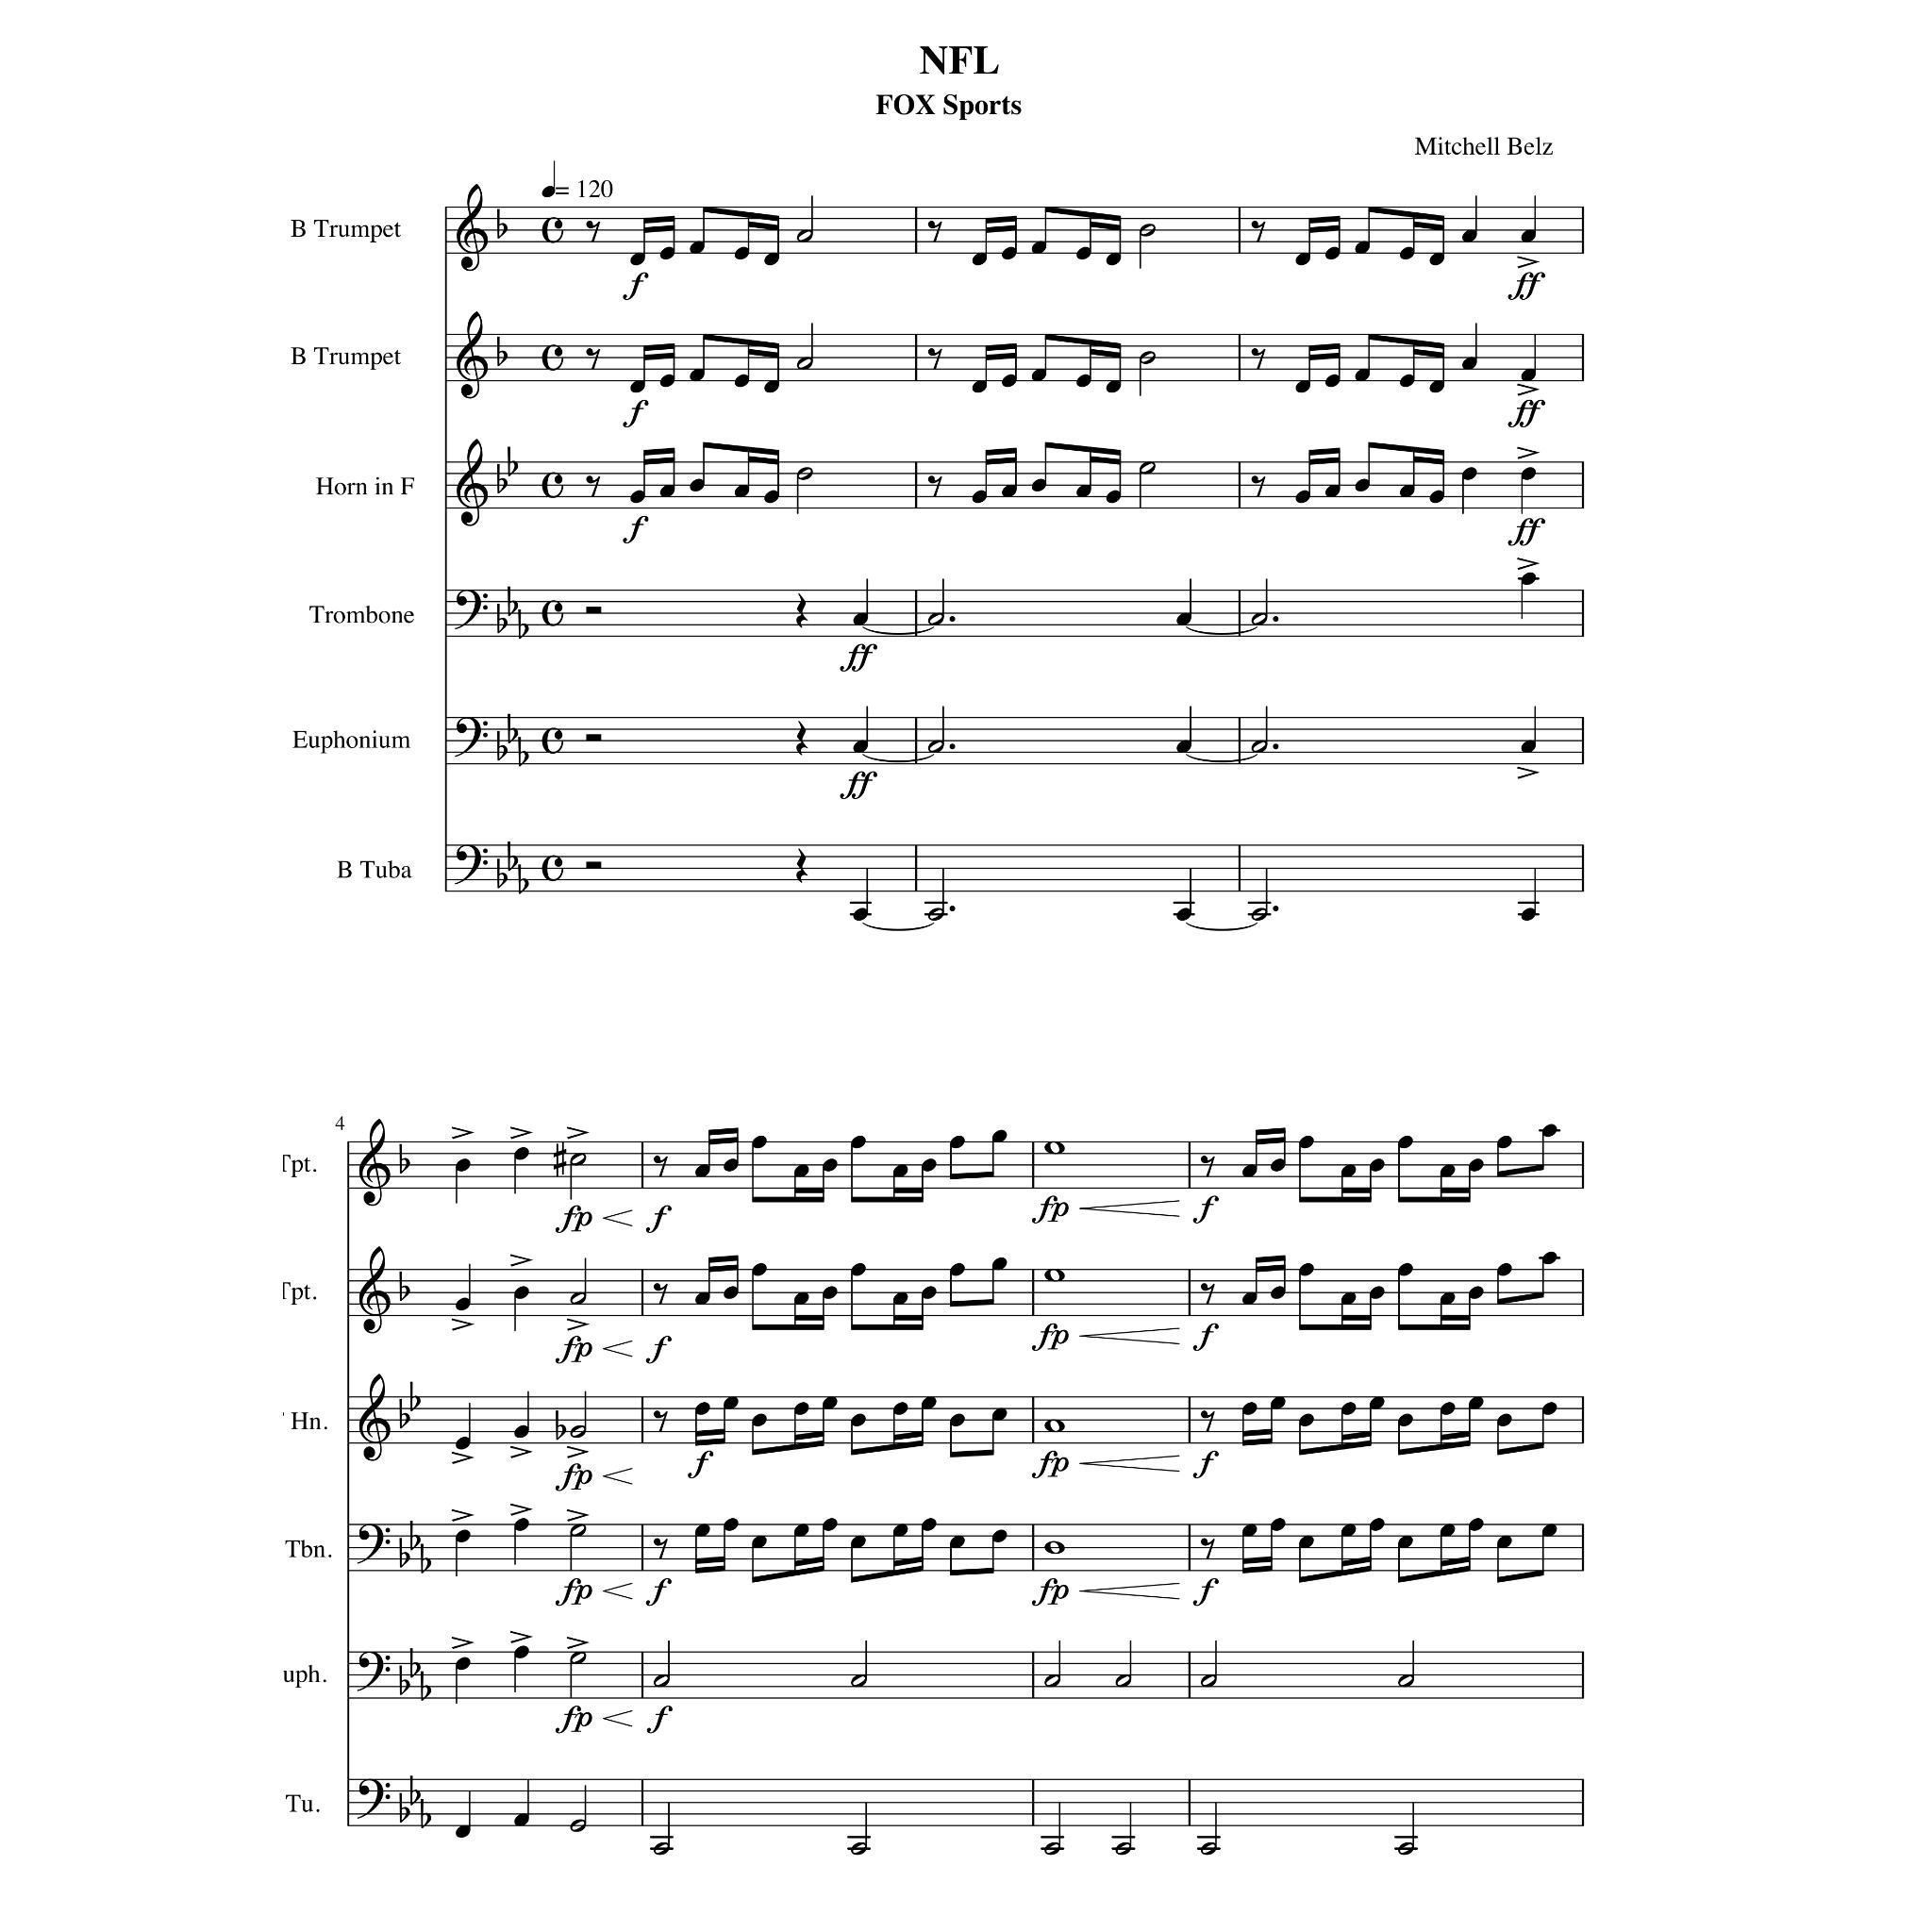fClef: (453, 844, 488, 885), (453, 591, 488, 630), (453, 718, 488, 757), (357, 1523, 391, 1564), (357, 1651, 391, 1691), (357, 1778, 391, 1819)
gClef: (456, 182, 488, 272), (456, 439, 488, 527), (456, 311, 488, 400), (359, 1118, 391, 1207), (359, 1246, 391, 1334), (359, 1373, 391, 1461)
noteheadBlack: (658, 246, 676, 260), (658, 485, 676, 499), (1000, 246, 1017, 260), (1000, 485, 1017, 499), (1076, 246, 1092, 260), (1323, 246, 1339, 260), (1323, 485, 1339, 499), (1295, 380, 1311, 395), (1295, 490, 1311, 504), (1106, 490, 1122, 504), (1076, 485, 1092, 499), (1106, 380, 1122, 395), (1399, 485, 1415, 499), (1399, 246, 1415, 260), (1430, 380, 1445, 395), (1430, 490, 1445, 504), (1353, 241, 1369, 255), (1353, 368, 1369, 382), (1520, 368, 1536, 382), (1461, 357, 1477, 372), (690, 241, 706, 255), (690, 368, 706, 382), (734, 246, 750, 260), (734, 485, 750, 499), (630, 380, 646, 395), (630, 490, 646, 504), (971, 380, 987, 395), (971, 490, 987, 504), (1031, 241, 1047, 255), (1031, 368, 1047, 382), (853, 612, 869, 626), (1242, 1523, 1258, 1537), (1270, 1284, 1286, 1299), (1270, 1396, 1286, 1410), (1242, 1292, 1258, 1306), (1242, 1401, 1258, 1415), (1299, 1414, 1315, 1428), (1341, 1292, 1357, 1306), (1341, 1401, 1357, 1415), (1341, 1523, 1357, 1537), (1541, 1123, 1557, 1138), (1541, 1401, 1557, 1415), (1541, 1523, 1557, 1537), (1396, 1414, 1412, 1428), (1368, 1284, 1384, 1299), (1368, 1396, 1384, 1410), (1467, 1284, 1483, 1299), (1467, 1396, 1483, 1410), (1497, 1414, 1513, 1428), (1438, 1292, 1454, 1306), (1438, 1401, 1454, 1415), (1438, 1523, 1454, 1537), (695, 1523, 711, 1537), (695, 1292, 711, 1306), (695, 1401, 711, 1415), (455, 1297, 471, 1311), (455, 1437, 471, 1451), (455, 1658, 471, 1672), (513, 1645, 529, 1660), (513, 1146, 529, 1161), (513, 1284, 529, 1299), (892, 1292, 908, 1306), (892, 1401, 908, 1415), (892, 1523, 908, 1537), (920, 1284, 936, 1299), (920, 1396, 936, 1410), (849, 1414, 865, 1428), (991, 1256, 1007, 1270), (991, 1408, 1007, 1422), (752, 1414, 768, 1428), (794, 1292, 810, 1306), (794, 1401, 810, 1415), (794, 1523, 810, 1537), (724, 1284, 740, 1299), (724, 1396, 740, 1410), (823, 1284, 839, 1299), (823, 1396, 839, 1410), (658, 375, 676, 387), (1000, 375, 1017, 387), (1177, 612, 1191, 626), (764, 380, 778, 395), (764, 490, 778, 504), (950, 1414, 964, 1428), (1323, 375, 1339, 387), (1295, 253, 1311, 265), (1076, 375, 1092, 387), (1106, 253, 1122, 265), (1399, 375, 1415, 387), (1430, 253, 1445, 265), (1353, 479, 1369, 492), (1520, 230, 1536, 242), (1520, 467, 1536, 479), (1520, 573, 1536, 586), (1520, 741, 1536, 754), (1520, 908, 1536, 920), (1461, 230, 1477, 242), (1461, 467, 1477, 479), (690, 479, 706, 492), (734, 375, 750, 387), (630, 253, 646, 265), (971, 253, 987, 265), (1031, 479, 1047, 492), (853, 908, 869, 920), (853, 741, 869, 754), (1270, 1159, 1286, 1171), (1270, 1518, 1286, 1530), (1242, 1164, 1258, 1177), (1299, 1536, 1315, 1548), (1341, 1164, 1357, 1177), (1299, 1136, 1315, 1148), (1299, 1263, 1315, 1276), (1541, 1253, 1557, 1265), (1396, 1136, 1412, 1148), (1396, 1263, 1412, 1276), (1396, 1536, 1412, 1548), (1368, 1159, 1384, 1171), (1368, 1518, 1384, 1530), (1467, 1159, 1483, 1171), (1467, 1518, 1483, 1530), (1497, 1136, 1513, 1148), (1497, 1263, 1513, 1276), (1497, 1536, 1513, 1548), (1438, 1164, 1454, 1177), (695, 1164, 711, 1177), (455, 1159, 471, 1171), (455, 1530, 471, 1543), (455, 1826, 471, 1838), (513, 1813, 529, 1826), (513, 1426, 529, 1438), (513, 1518, 529, 1530), (892, 1164, 908, 1177), (920, 1159, 936, 1171), (849, 1536, 865, 1548), (920, 1518, 936, 1530), (991, 1131, 1007, 1143), (991, 1530, 1007, 1543), (752, 1263, 768, 1276), (752, 1536, 768, 1548), (752, 1136, 768, 1148), (849, 1263, 865, 1276), (724, 1159, 740, 1171), (724, 1518, 740, 1530), (794, 1164, 810, 1177), (823, 1518, 839, 1530), (823, 1159, 839, 1171), (849, 1136, 865, 1148), (1177, 741, 1191, 754), (1177, 908, 1191, 920), (764, 253, 778, 265), (950, 1136, 964, 1148), (950, 1263, 964, 1276), (950, 1536, 964, 1548)
noteheadHalf: (1251, 612, 1269, 626), (796, 357, 814, 372), (927, 612, 945, 626), (1200, 1842, 1217, 1856), (1115, 1674, 1132, 1688), (1115, 1842, 1132, 1856), (1200, 1674, 1217, 1688), (653, 1674, 671, 1688), (653, 1842, 671, 1856), (570, 1523, 587, 1537), (570, 1819, 587, 1833), (570, 1292, 587, 1306), (570, 1152, 587, 1166), (849, 1674, 867, 1688), (849, 1842, 867, 1856), (1139, 350, 1155, 364), (1139, 462, 1155, 476), (1044, 1674, 1060, 1688), (1044, 1842, 1060, 1856), (1398, 1674, 1414, 1688), (1398, 1842, 1414, 1856), (1251, 741, 1269, 754), (1251, 908, 1269, 920), (796, 230, 814, 242), (796, 467, 814, 479), (927, 741, 945, 754), (927, 908, 945, 920), (570, 1426, 587, 1438), (570, 1652, 587, 1665), (1139, 225, 1155, 237)
noteheadWhole: (1044, 1541, 1065, 1555), (1044, 1141, 1065, 1155), (1044, 1269, 1065, 1283), (1044, 1419, 1065, 1433)
rest8th: (1251, 221, 1267, 244), (1251, 349, 1267, 372), (1251, 476, 1267, 499), (927, 349, 943, 372), (927, 476, 943, 499), (927, 221, 943, 244), (1200, 1155, 1215, 1178), (1200, 1283, 1215, 1306), (1200, 1410, 1215, 1433), (1200, 1537, 1215, 1560), (653, 1155, 669, 1178), (653, 1283, 669, 1306), (653, 1410, 669, 1433), (653, 1537, 669, 1560), (586, 476, 600, 499), (586, 221, 600, 244), (586, 349, 600, 372)
restHalf: (586, 734, 602, 741), (586, 607, 602, 614), (586, 862, 602, 869)
restQuarter: (796, 720, 809, 757), (796, 593, 809, 628), (796, 849, 809, 883)
